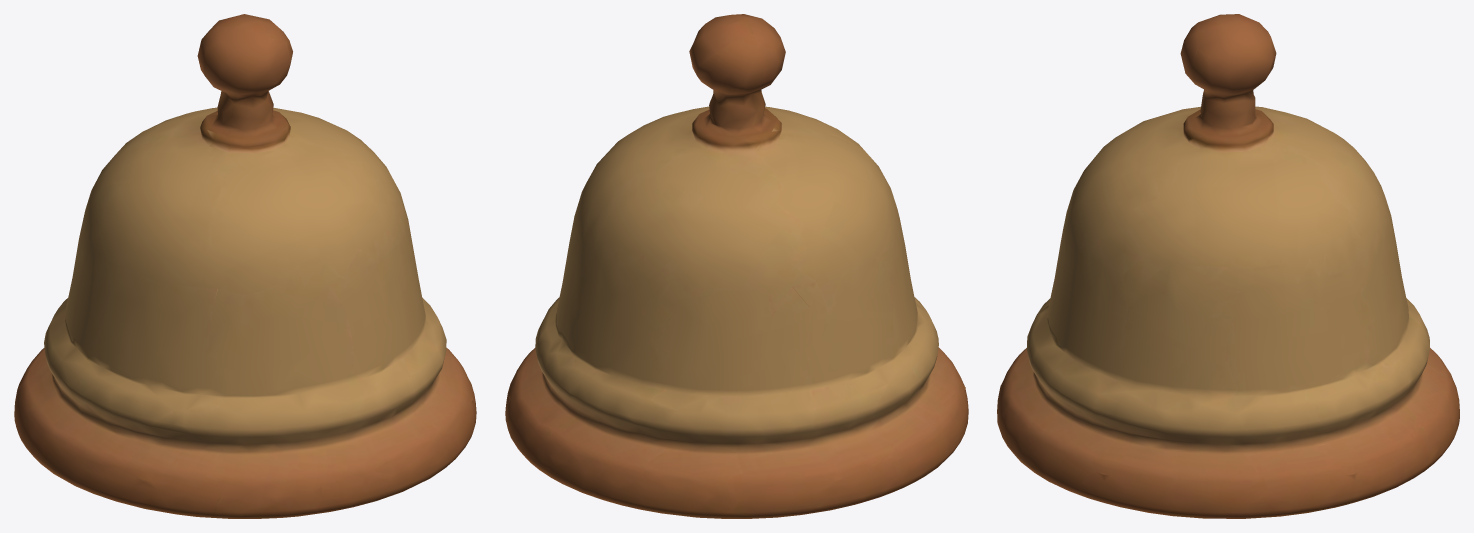
File: bell.glb
The picture shows the model from 3 angles, left to right: view 1: azimuth 30°, elevation 25°; view 2: azimuth 150°, elevation 25°; view 3: azimuth 270°, elevation 25°; orthographic projection.
Parts seen in each view (by area): view 1: tripo_node_532cc88c-fc8b-4eda-99f0-17c94ebd05df; view 2: tripo_node_532cc88c-fc8b-4eda-99f0-17c94ebd05df; view 3: tripo_node_532cc88c-fc8b-4eda-99f0-17c94ebd05df.
Boxes of the visible parts, bbox=[...] form: tripo_node_532cc88c-fc8b-4eda-99f0-17c94ebd05df: bbox=[14, 14, 476, 518]; tripo_node_532cc88c-fc8b-4eda-99f0-17c94ebd05df: bbox=[505, 14, 968, 518]; tripo_node_532cc88c-fc8b-4eda-99f0-17c94ebd05df: bbox=[997, 14, 1459, 518].
Size of the model in its own units: 0.9997 by 0.9681 by 0.9989.
Materials: 1 (1 with a texture image).
